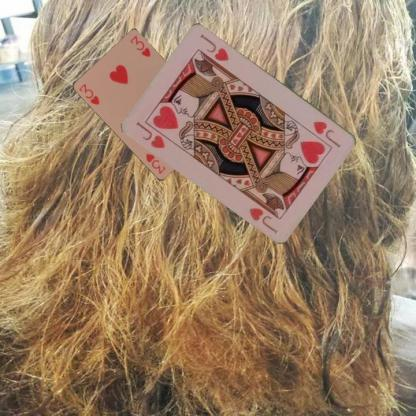3h: (77, 82, 101, 106)
Jh: (134, 119, 175, 150), (310, 118, 343, 150)
